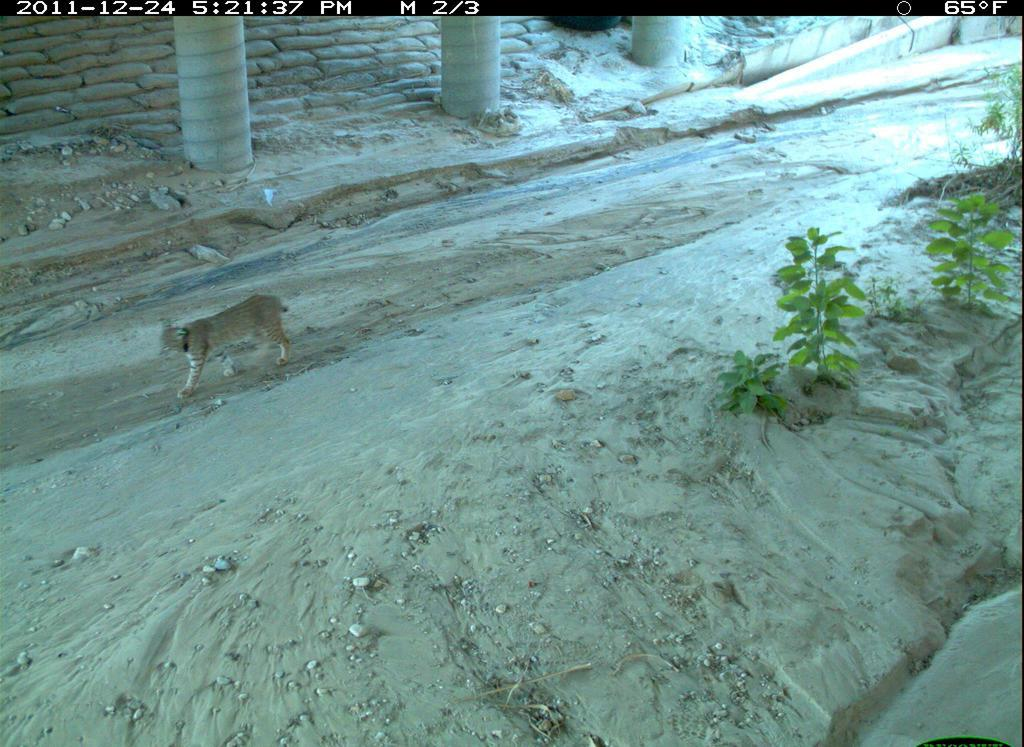bobcat: (157, 291, 308, 400)
